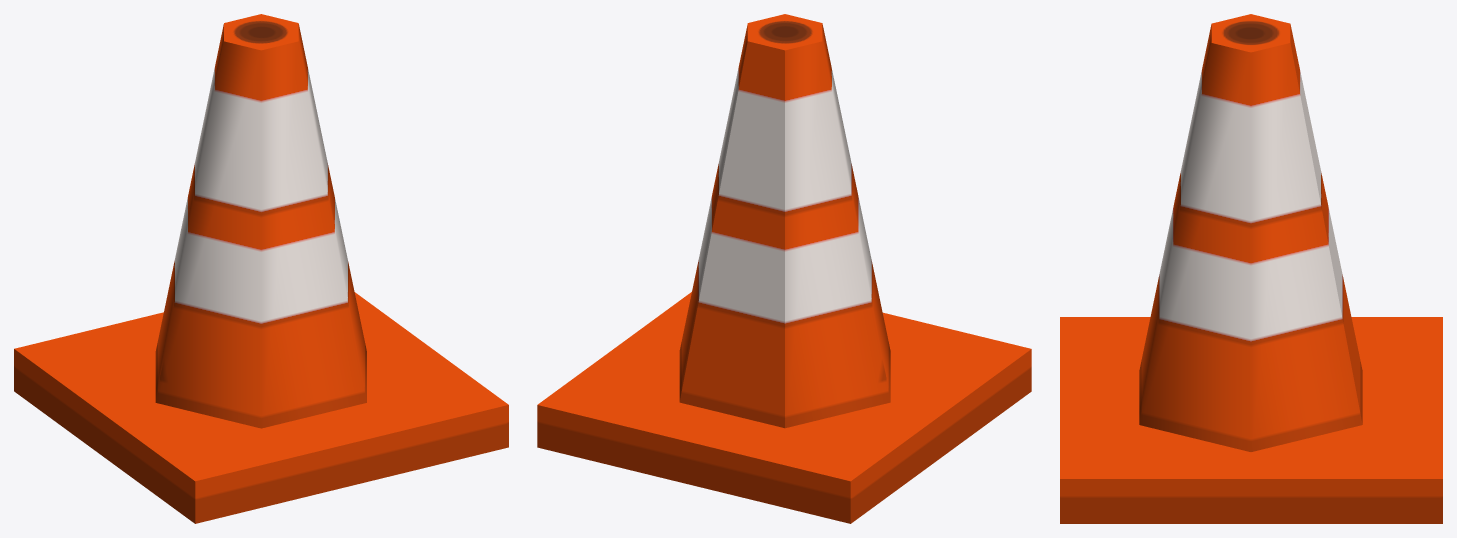
Rendered from city_road_cone.fbx.
3 renders of one model, left to right at view 1: azimuth 30°, elevation 25°; view 2: azimuth 150°, elevation 25°; view 3: azimuth 270°, elevation 25°, orthographic. The views are drawn at different scales.
Visible parts, largest first — view 1: city:polySurface314; view 2: city:polySurface314; view 3: city:polySurface314.
Boxes of the visible parts, x1,y1,x2,y2 form: city:polySurface314: (14, 14, 508, 523); city:polySurface314: (537, 14, 1031, 523); city:polySurface314: (1060, 14, 1442, 523).
Size of the model in its own units: 0.7214 by 0.8516 by 0.7214.
